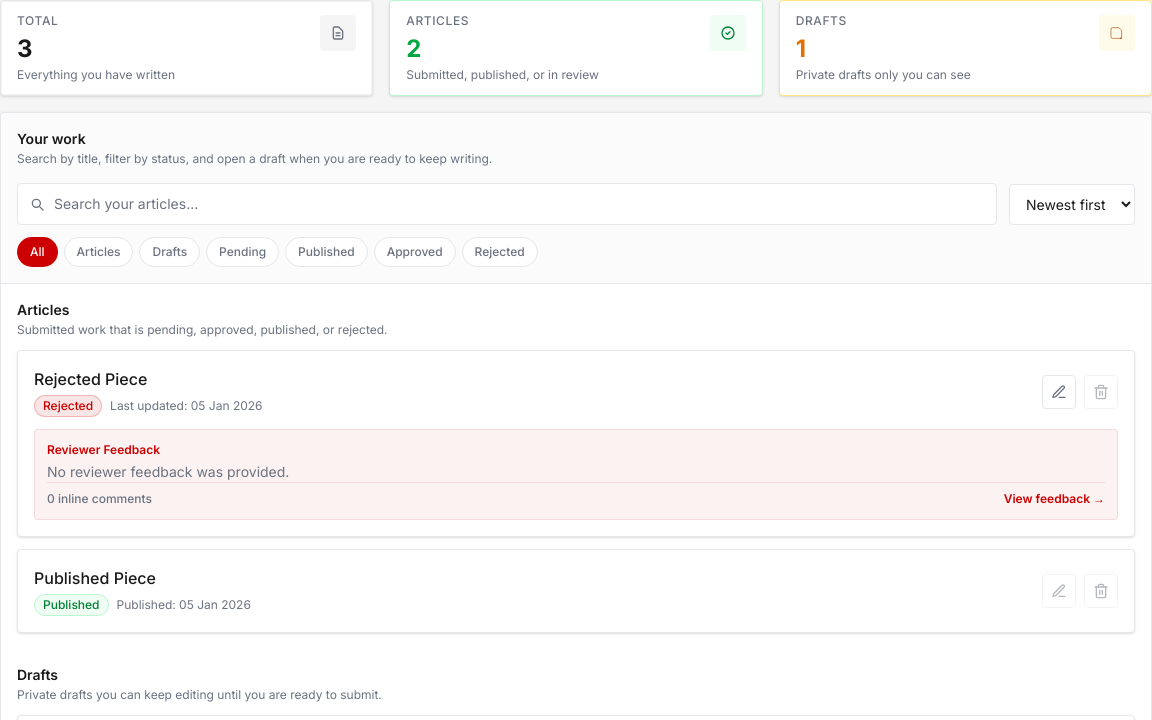
Scenario: MyArticlesList › filters Unpublished articles when Rejected is selected
Expected: the element with test id "article-card-rej1" is shown, [17,350,1135,537]
Click the button "Rejected": (500, 252) [462,237,538,267]
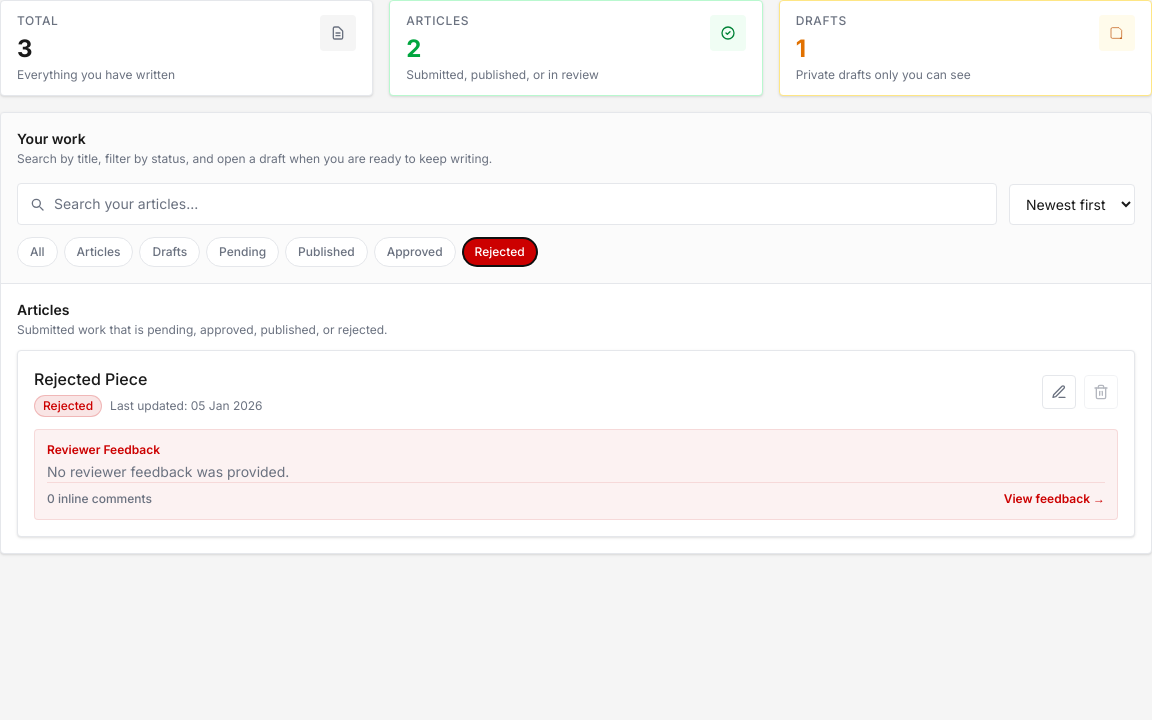
Expected: the element with test id "article-card-rej1" is shown, [17,350,1135,537]
Expected: the element with test id "article-card-pub1" is gone
